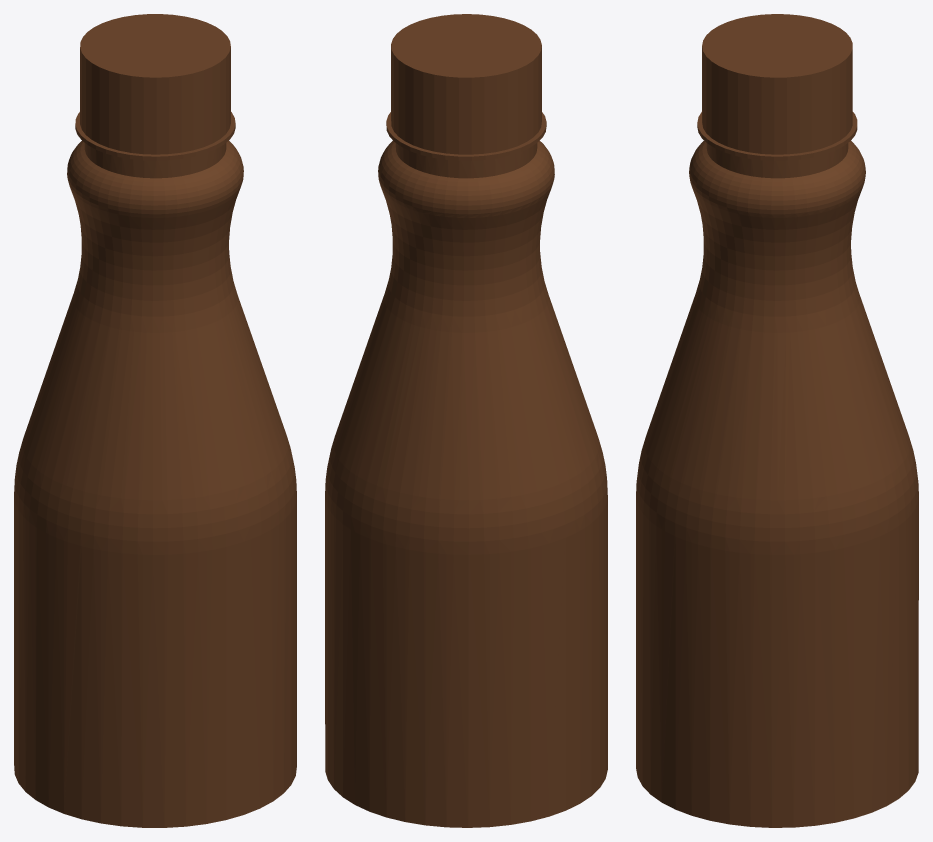
Rendered from 雀巢咖啡.glb.
3 views of the same model, side by side, from view 1: azimuth 30°, elevation 25°; view 2: azimuth 150°, elevation 25°; view 3: azimuth 270°, elevation 25° (orthographic).
Parts seen in each view (by area): view 1: body2953055; view 2: body2953055; view 3: body2953055.
Boxes of the visible parts, x1=… form: body2953055: x1=14, y1=14, x2=296, y2=827; body2953055: x1=325, y1=14, x2=607, y2=827; body2953055: x1=636, y1=14, x2=918, y2=827.
Bounding box in the file's own units: 59.96 × 169 × 60.
